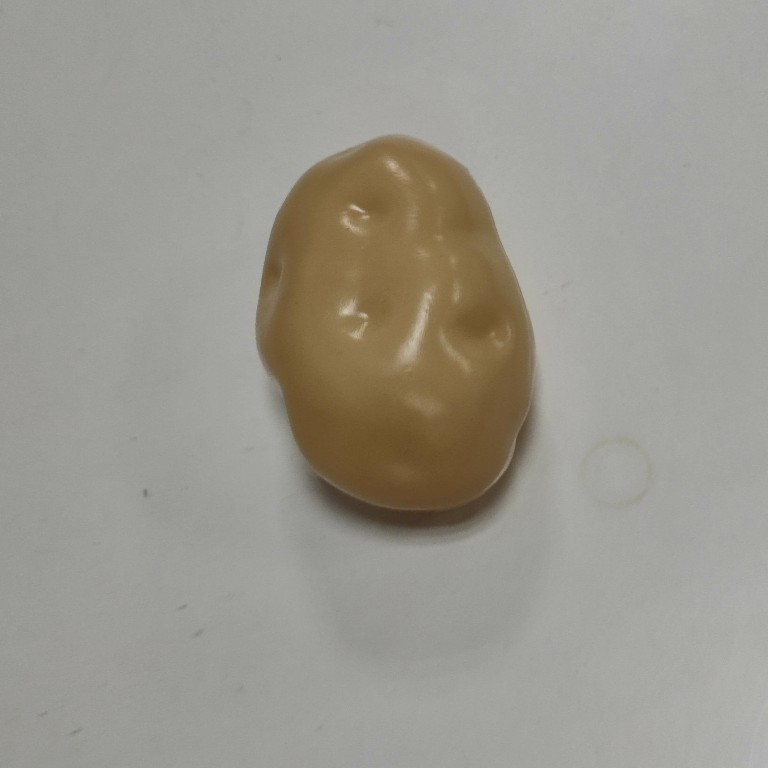fruit_potato: (250, 131, 541, 517)
